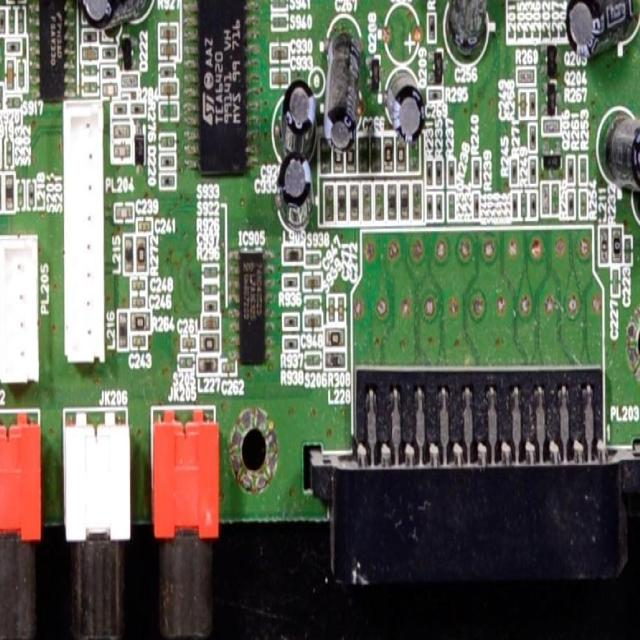IC: (187, 0, 258, 179), (228, 231, 278, 361), (29, 0, 82, 101)
capacitor: (280, 80, 317, 230), (324, 24, 364, 149), (565, 0, 638, 60), (40, 0, 159, 28), (384, 64, 426, 141), (446, 0, 492, 65), (619, 108, 640, 224), (271, 41, 290, 86), (158, 20, 180, 58), (0, 133, 17, 172), (328, 292, 347, 325), (130, 275, 148, 306), (112, 200, 136, 222), (383, 132, 394, 174), (159, 79, 181, 99), (610, 263, 621, 303), (303, 272, 323, 294), (219, 358, 238, 381), (80, 44, 100, 64), (334, 140, 346, 173), (396, 131, 406, 170), (346, 134, 356, 170), (624, 230, 634, 266), (326, 181, 335, 220), (321, 137, 331, 172), (410, 139, 420, 174), (414, 179, 423, 217), (136, 216, 154, 235), (179, 336, 199, 353), (202, 316, 223, 331), (377, 184, 385, 221), (304, 314, 321, 330), (6, 62, 14, 94), (134, 334, 148, 348)
resistor: (426, 156, 459, 221), (280, 308, 302, 351), (158, 152, 178, 192), (473, 157, 484, 220), (134, 235, 150, 273), (336, 181, 350, 222), (524, 157, 541, 189), (349, 181, 361, 226), (398, 183, 412, 220), (370, 132, 382, 170), (426, 9, 440, 40), (102, 49, 116, 80), (357, 133, 368, 171), (422, 87, 448, 103), (281, 271, 300, 291), (363, 181, 372, 222), (130, 313, 151, 330), (389, 185, 398, 220), (510, 157, 520, 187), (203, 299, 222, 314), (158, 64, 178, 78), (512, 188, 520, 217)
transistor: (540, 138, 564, 178), (541, 42, 562, 83), (541, 88, 564, 121), (133, 121, 147, 174), (428, 46, 445, 86), (6, 0, 28, 5)
